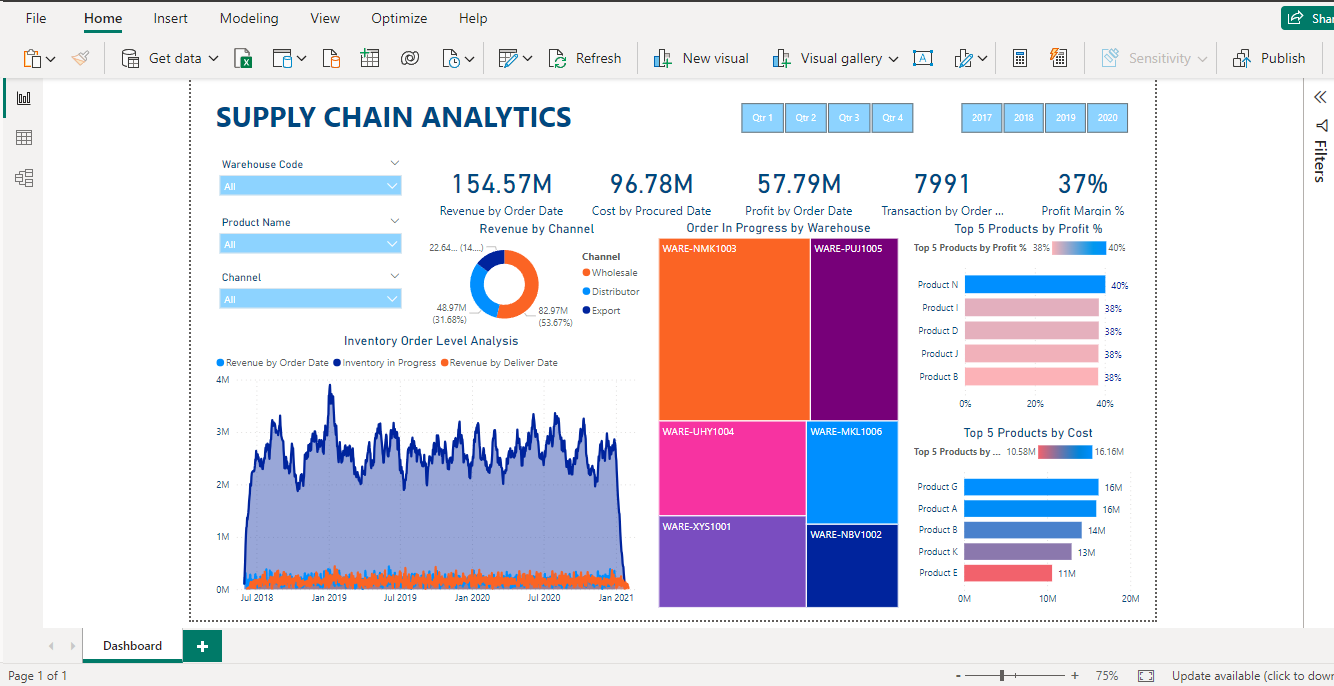

Layout of this report page (visuals, bound fields, positions):
{"tool":"powerbi","page":{"name":"Dashboard","canvas":[1280,720],"ordinal":0},"visuals":[{"type":"slicer","fields":{"Values":["Dates.Year"]},"box":[998,26.3,270.7,52.7],"z":1000},{"type":"slicer","fields":{"Values":["Dates.Date.Variation.Date Hierarchy.Quarter"]},"box":[705.4,26.3,278,52.7],"z":2000},{"type":"textbox","box":[27.8,20.5,515.1,61.5],"z":3000},{"type":"card","fields":{"Values":["Specific Calculations.Cost by Procured Date"]},"box":[519.5,106.8,184.4,82],"z":4000},{"type":"card","fields":{"Values":["General Calculation.Revenue"]},"box":[319,106.4,186.7,83],"z":5000},{"type":"areaChart","title":"Inventory Order Level Analysis","fields":{"Y":["Specific Calculations.Revenue by Order Date","Specific Calculations.Inventory in Progress","Specific Calculations.Revenue by Deliver Date"],"Category":["Dates.Date"]},"box":[28.5,338.5,582.3,370.9],"z":6000},{"type":"slicer","fields":{"Values":["Products.Product Name"]},"box":[27.2,177.7,262,68.7],"z":7000},{"type":"slicer","fields":{"Values":["Warehouse.Warehouse Code"]},"box":[27.2,101.2,262,71.3],"z":8000},{"type":"slicer","fields":{"Values":["Sales.Channel"]},"box":[27.2,251.6,262,68.7],"z":9000},{"type":"card","fields":{"Values":["Specific Calculations.Profit by Order Date"]},"box":[717.1,106.8,180,82],"z":10000},{"type":"card","fields":{"Values":["Specific Calculations.Transaction by Order Date"]},"box":[910.2,106.8,177.1,82],"z":11000},{"type":"card","fields":{"Values":["Specific Calculations.Profit Margin %"]},"box":[1100.5,106.8,169.8,82],"z":12000},{"type":"clusteredBarChart","title":"Top 5 Products by Profit %","fields":{"Y":["Specific Calculations.Top 5 Products by Profit %"],"Category":["Products.Product Name"]},"box":[955.6,190.2,314.6,260.5],"z":12001},{"type":"clusteredBarChart","title":"Top 5 Products by Cost","fields":{"Category":["Products.Product Name"],"Y":["Specific Calculations.Top 5 Products by Cost"]},"box":[955.8,460.4,313.8,249],"z":12002},{"type":"treemap","title":"Order In Progress by Warehouse","fields":{"Values":["Specific Calculations.Order In Progress"],"Group":["Warehouse.Warehouse Code"]},"box":[616.8,189.2,328.1,519.8],"z":12003},{"type":"donutChart","title":"Revenue by Channel","fields":{"Y":["Specific Calculations.Revenue by Order Date"],"Category":["Sales.Channel"]},"box":[308.7,189.3,302.2,149.1],"z":12004}]}

Visuals, with their boxes on the page's 1280x720 design canvas (x1, y1, x2, y2). These are canvas units, not pixel positions in the 1334x686 screenshot, which may show the page scaled, cropped or inside an application window:
slicer - Dates.Year: (998, 26, 1269, 79)
slicer - Dates.Date.Variation.Date Hierarchy.Quarter: (705, 26, 983, 79)
textbox: (28, 20, 543, 82)
card - Specific Calculations.Cost by Procured Date: (520, 107, 704, 189)
card - General Calculation.Revenue: (319, 106, 506, 189)
"Inventory Order Level Analysis" areaChart: (28, 338, 611, 709)
slicer - Products.Product Name: (27, 178, 289, 246)
slicer - Warehouse.Warehouse Code: (27, 101, 289, 172)
slicer - Sales.Channel: (27, 252, 289, 320)
card - Specific Calculations.Profit by Order Date: (717, 107, 897, 189)
card - Specific Calculations.Transaction by Order Date: (910, 107, 1087, 189)
card - Specific Calculations.Profit Margin %: (1100, 107, 1270, 189)
"Top 5 Products by Profit %" clusteredBarChart: (956, 190, 1270, 451)
"Top 5 Products by Cost" clusteredBarChart: (956, 460, 1270, 709)
"Order In Progress by Warehouse" treemap: (617, 189, 945, 709)
"Revenue by Channel" donutChart: (309, 189, 611, 338)
